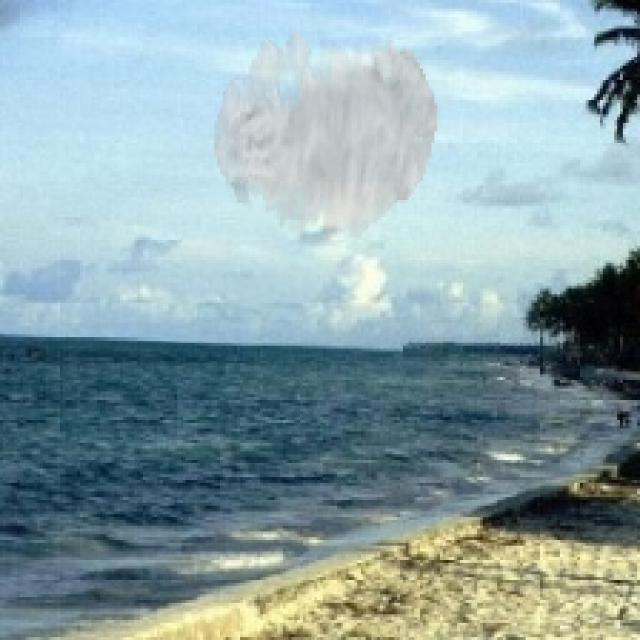Smoke: (214, 31, 437, 240)
